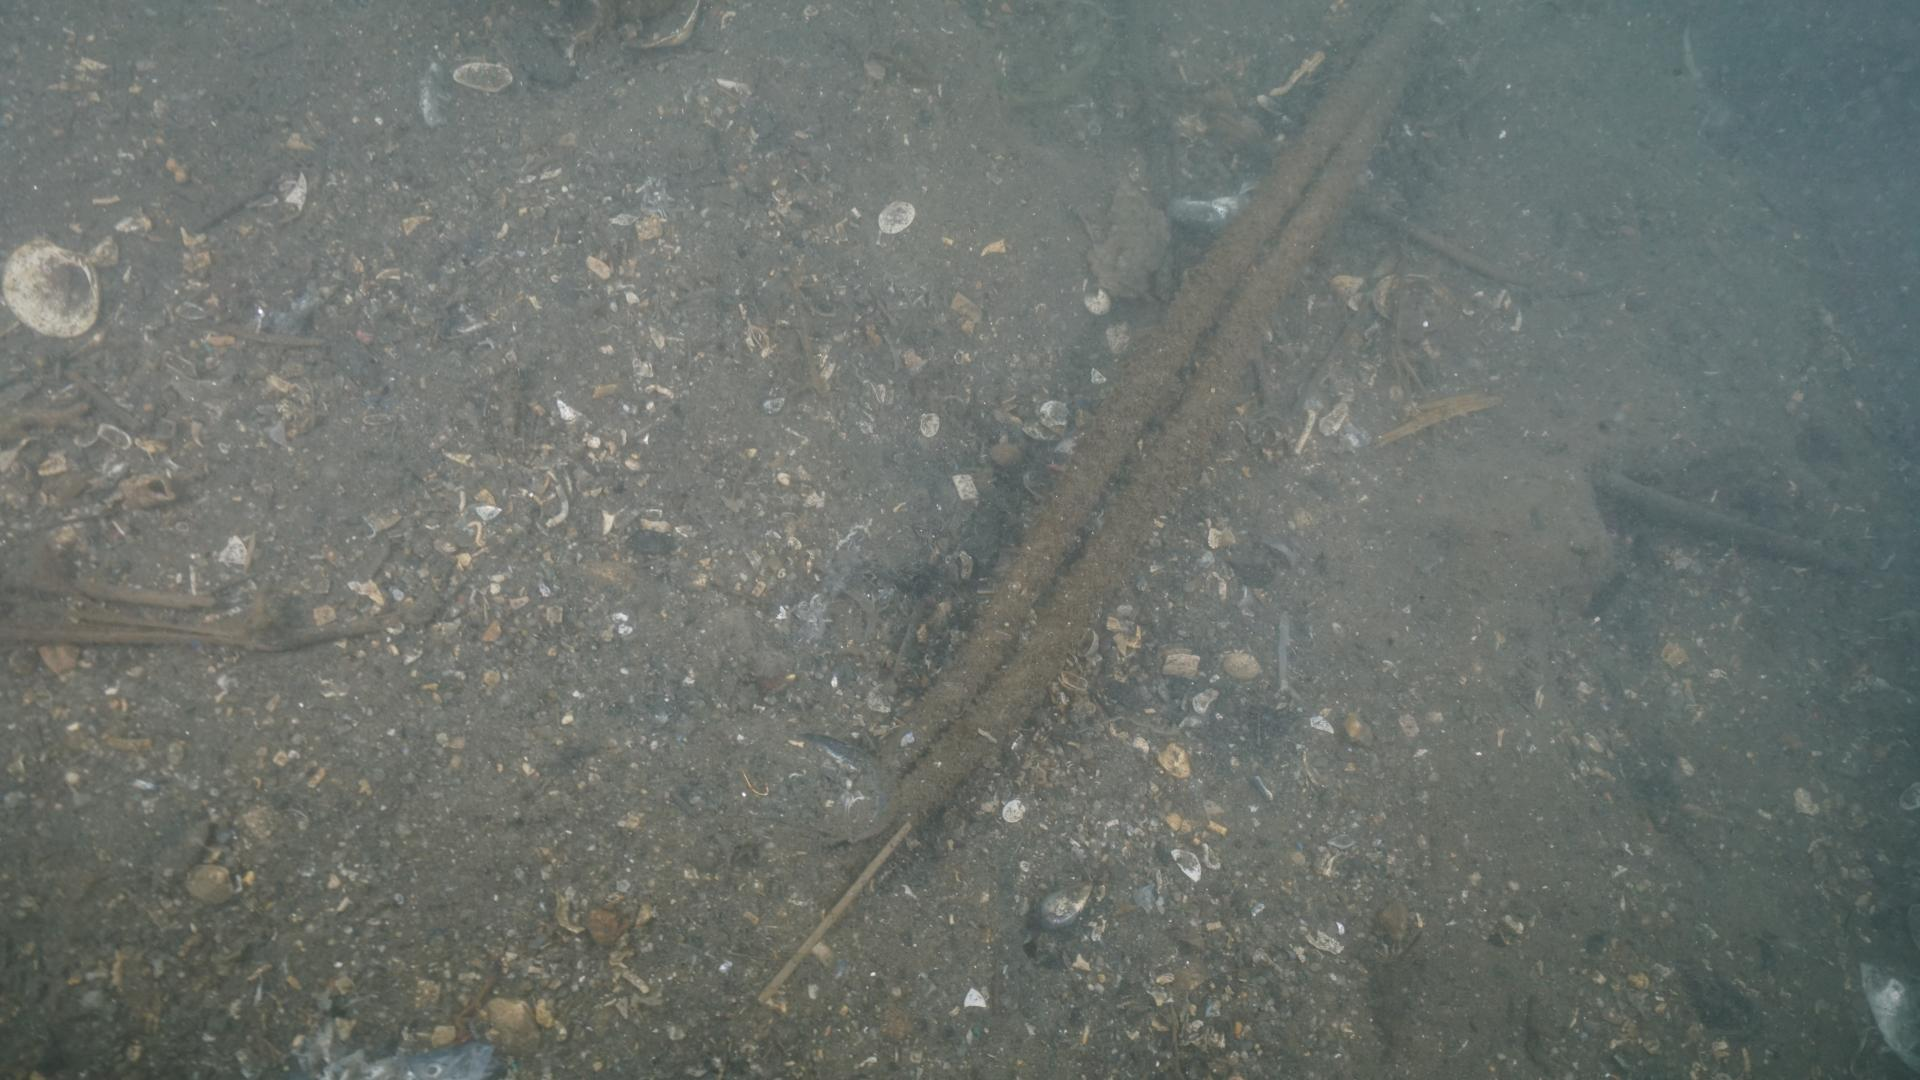bundle of ropes: (887, 1, 1431, 828)
